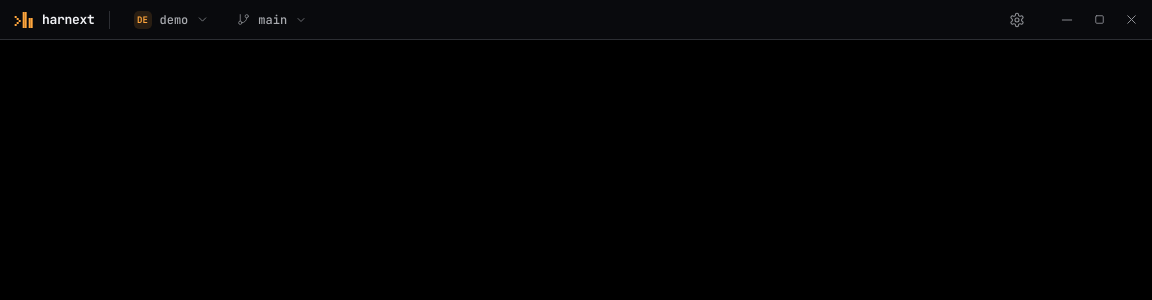
Titlebar branch switcher — search + scroll (#136) › lists every branch and filters them as you type
Click the button titled "Switch branch" at (272, 20), box [227,6,317,32]
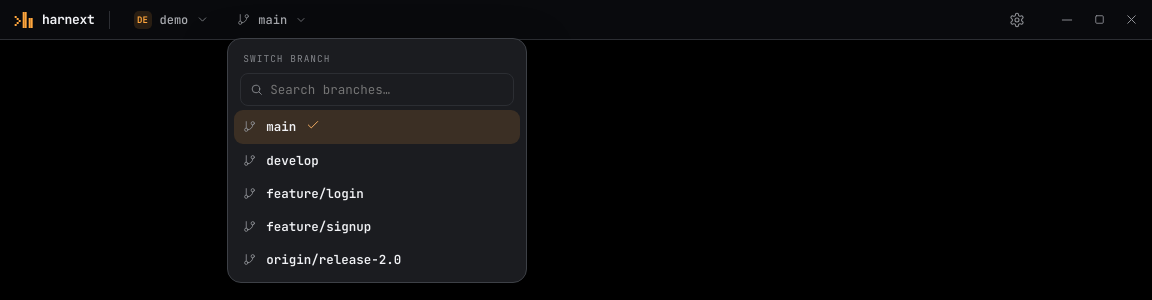
Check: the field labelled "Search branches" is shown
Check: the button "feature/login" is shown, box [234,177,520,210]
Check: the button "origin/release-2.0" is shown, box [234,243,520,276]
Type "FEATURE" into the field labelled "Search branches" at (387, 89), box [270,81,504,98]
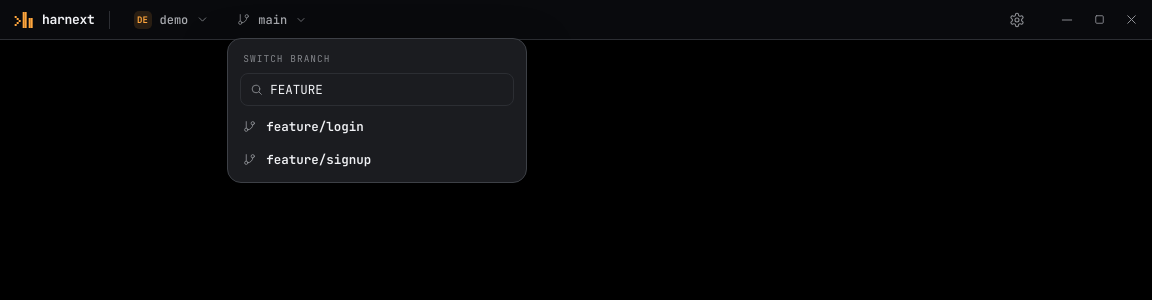
Check: the button "feature/login" is shown, box [234,110,520,143]
Check: the button "feature/signup" is shown, box [234,143,520,176]
Check: the button "develop" is gone
